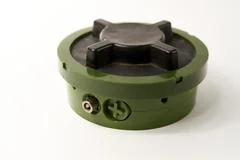PMN 2: (57, 19, 210, 131)
